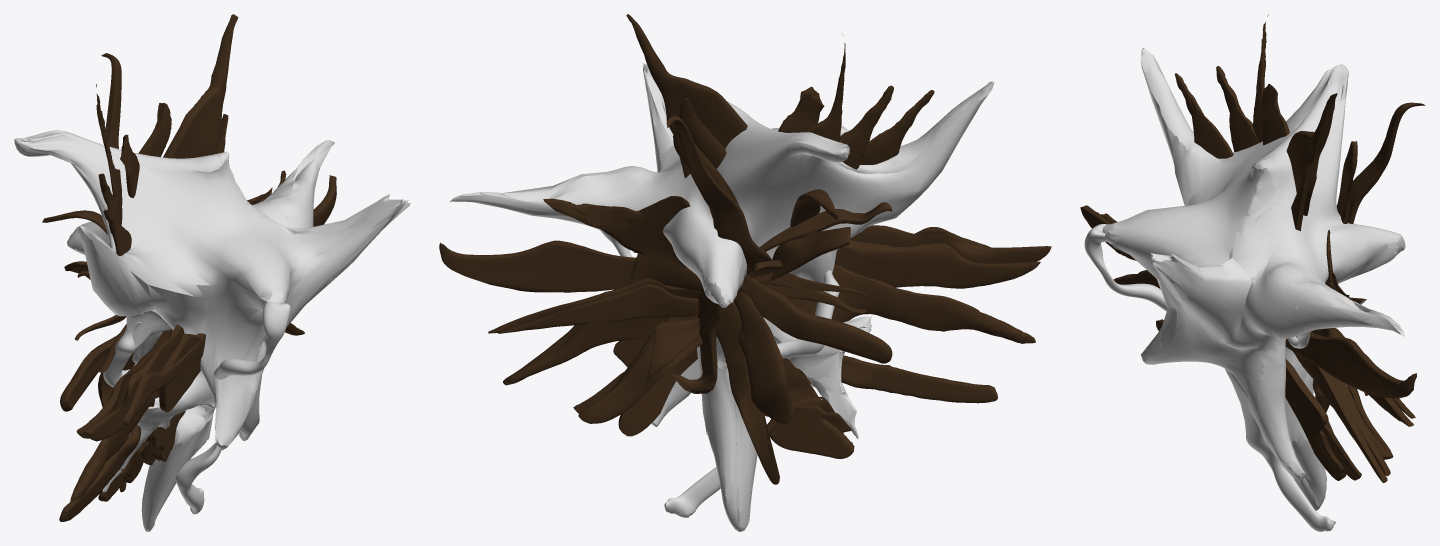
The model's file is nomad-yy.glb.
3 renders of one model, left to right at view 1: azimuth 30°, elevation 25°; view 2: azimuth 150°, elevation 25°; view 3: azimuth 270°, elevation 25°, orthographic. The views are drawn at different scales.
Visible parts, largest first — view 1: Patch, Patch_2, Right_17, Right_10, Main, Main_1, Patch_13, Patch_20, Right_12, Right_11, Right_2, Right_3 (+12 smaller); view 2: Patch, Left_10, Left, Left_3, Left_27, Left_26, Left_23, Left_12, Left_17, Left_29, Left_30, Left_38 (+27 smaller); view 3: Patch, Right, Patch_10, Main_1, Patch_4, Patch_3 (×2), Patch_17, Main, Patch_2, Right_30, Right_9, Patch_8 (+15 smaller).
Boxes of the visible parts, x1,y1,x2,y2 form: Patch: (14,130,406,530); Patch_2: (16,134,175,253); Right_17: (170,17,238,158); Right_10: (80,327,184,441); Main: (213,302,290,379); Main_1: (175,442,221,514); Patch_13: (76,324,181,439); Patch_20: (164,14,237,158); Right_12: (62,426,140,521); Right_11: (127,335,205,425); Right_2: (165,337,201,412); Right_3: (75,399,154,500); Patch: (450,72,987,529); Left_10: (835,226,1050,288); Left: (440,242,634,292); Left_3: (788,265,1035,343); Left_27: (734,290,792,423); Left_26: (737,274,892,363); Left_23: (499,286,698,333); Left_12: (841,356,997,403); Left_17: (626,15,746,148); Left_29: (716,301,779,484); Left_30: (667,120,772,269); Left_38: (578,314,702,423); Patch: (1106,55,1404,509); Right: (1285,336,1411,398); Patch_10: (1220,201,1292,280); Main_1: (1225,369,1335,531); Patch_4: (1257,351,1291,467); Patch_3 (×2): (1262,240,1416,398); Patch_17: (1140,48,1205,157); Main: (1084,224,1167,311); Patch_2: (1217,65,1336,168); Right_30: (1348,102,1420,223); Right_9: (1175,74,1231,158); Patch_8: (1291,430,1326,510).
Bounding box in the file's own units: 5.42 × 5.94 × 4.01.
